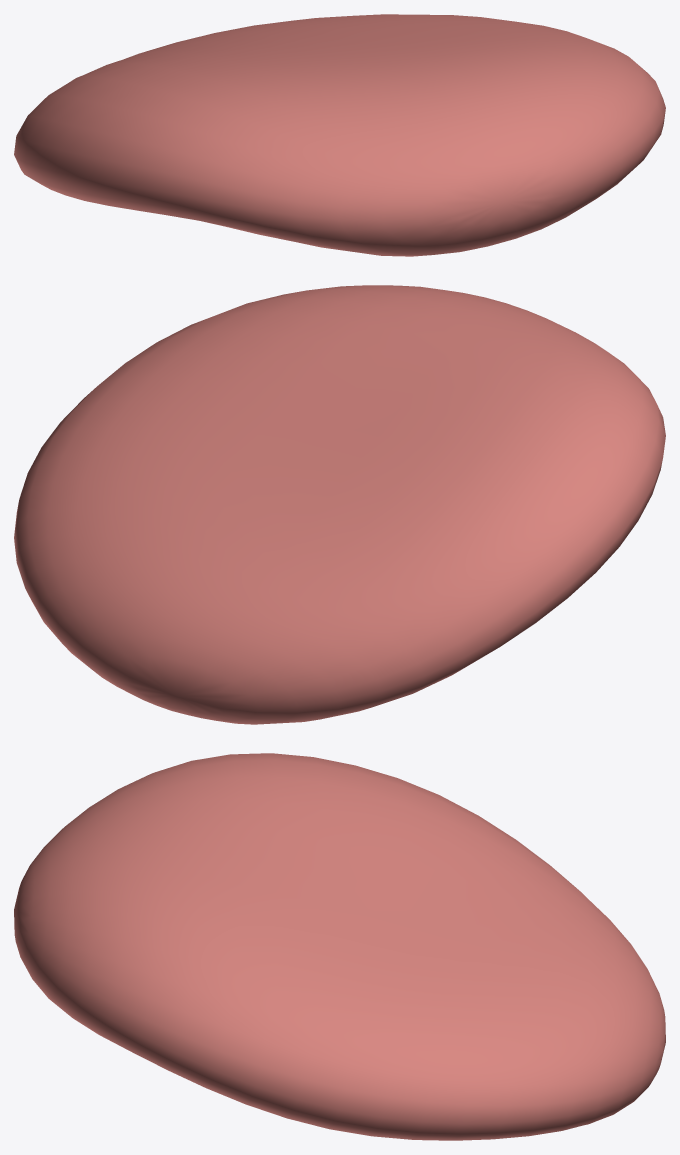
3 renders of one model, top to bottom at view 1: azimuth 30°, elevation 25°; view 2: azimuth 150°, elevation 25°; view 3: azimuth 270°, elevation 25°, orthographic.
Parts seen in each view (by area): view 1: ZA_a6661f9fa65189cf; view 2: ZA_a6661f9fa65189cf; view 3: ZA_a6661f9fa65189cf.
Boxes of the visible parts, box(x1,y1,x2,y2) form: ZA_a6661f9fa65189cf: box(14, 14, 665, 256); ZA_a6661f9fa65189cf: box(14, 285, 665, 724); ZA_a6661f9fa65189cf: box(14, 753, 665, 1140).
Bounding box in the file's own units: 0.0231 × 0.00919 × 0.0232.
